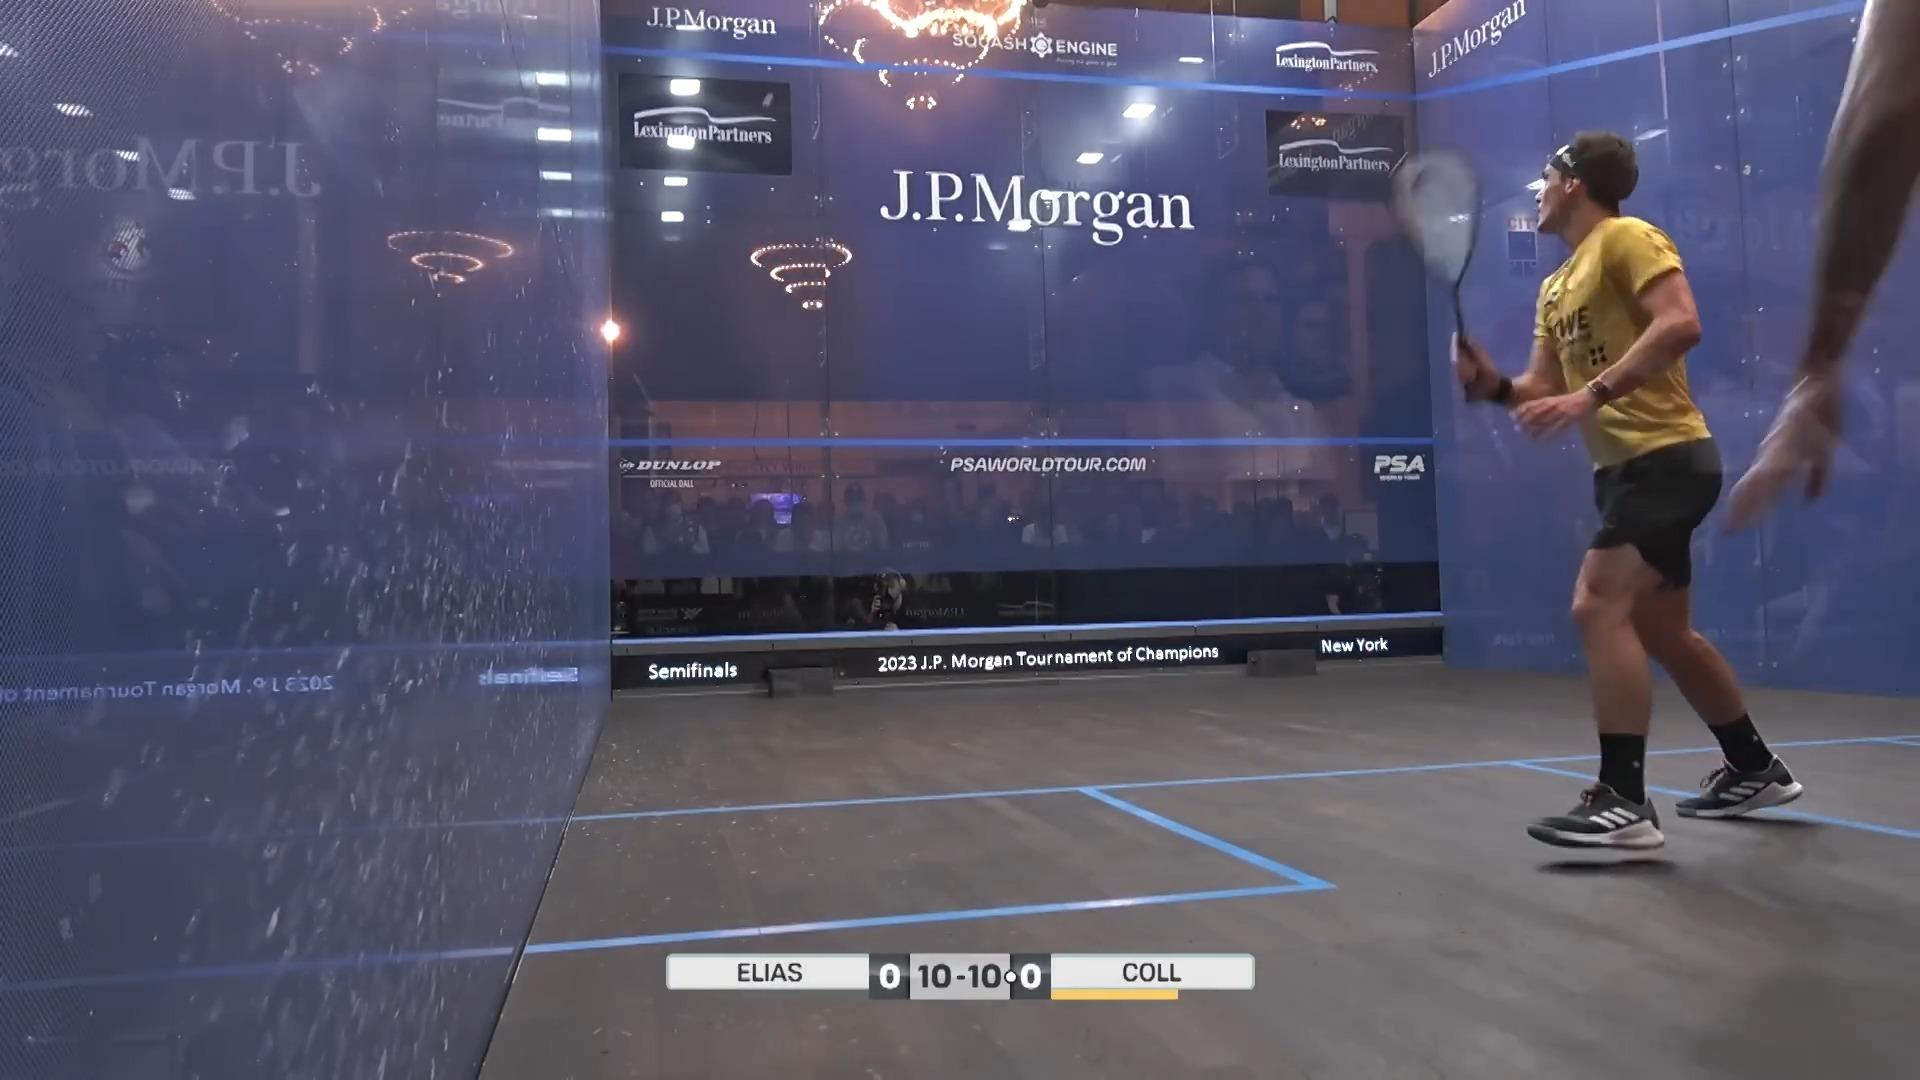Racket: (1374, 141, 1494, 397)
